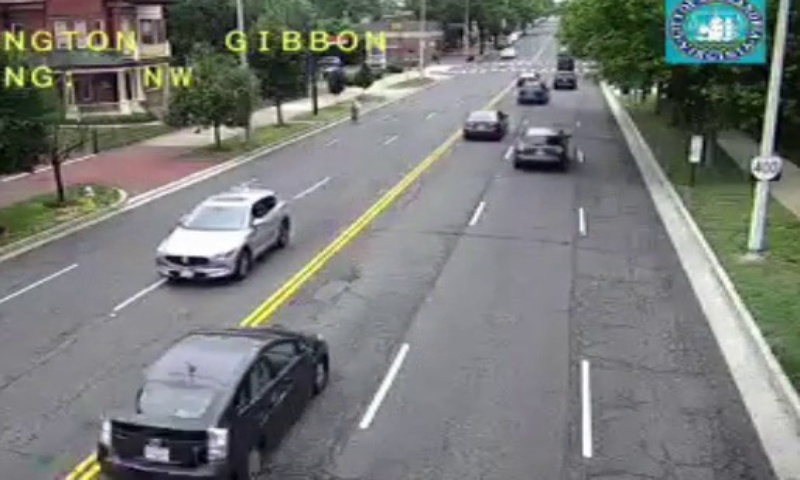car: (98, 327, 329, 480), (516, 127, 568, 165), (462, 111, 505, 138)
